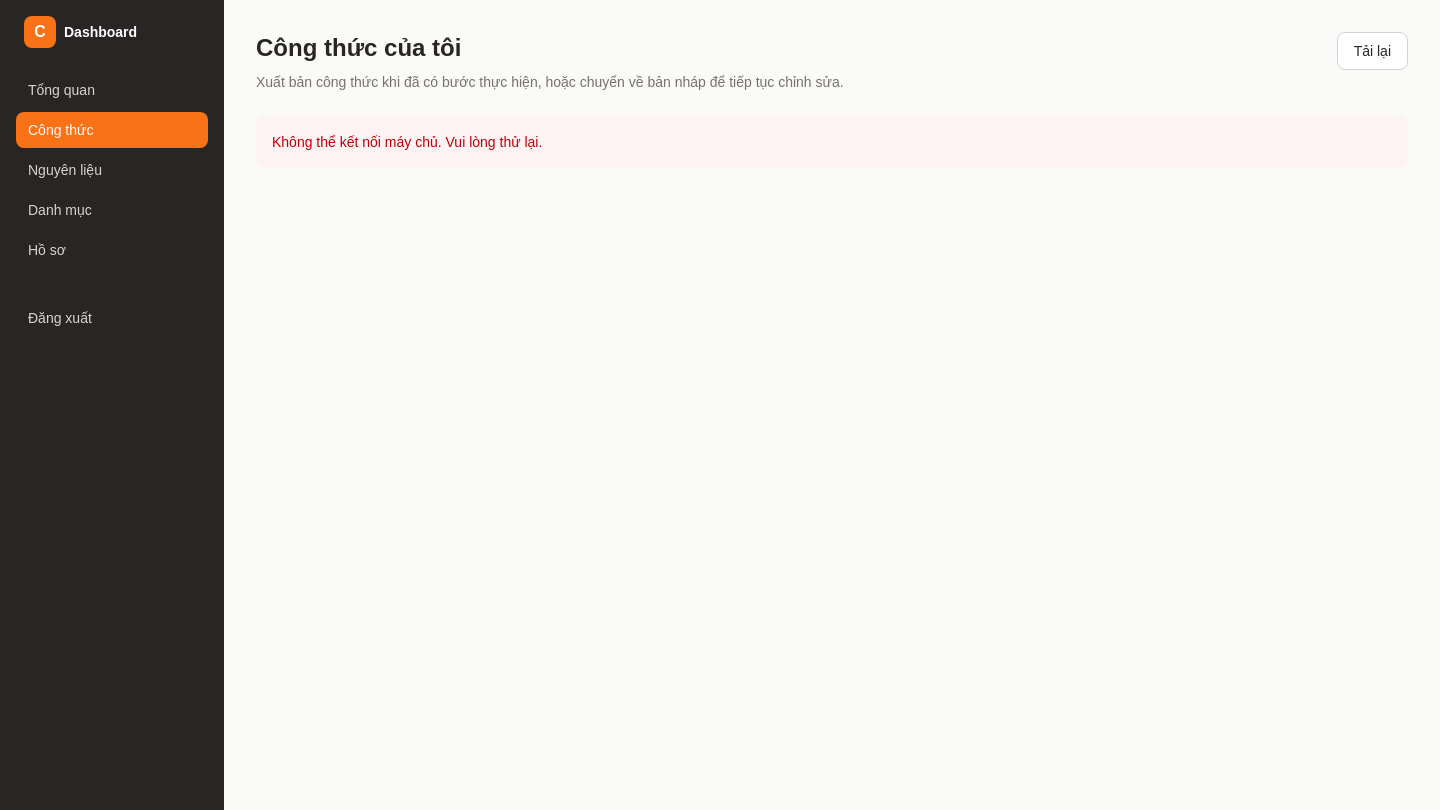
Test case: Recipe management through UI and API client › offers retry after a network failure
The width and height of the screenshot is (1440, 810).
Check: the message shows "Không thể kết nối", box [272, 134, 542, 150]
Click the button "Tải lại". click: (1372, 51)
box: [1337, 32, 1408, 70]
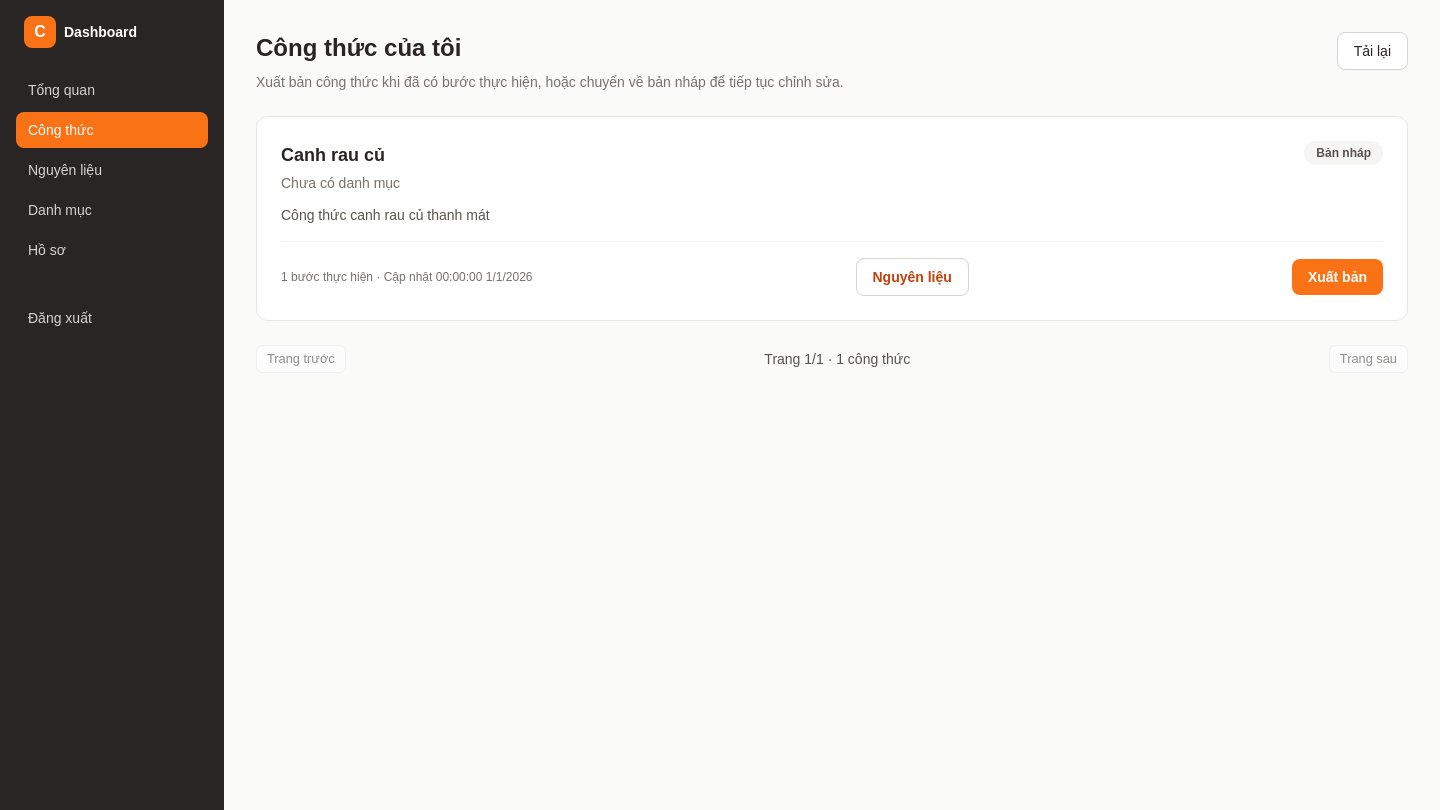
Check: the heading "Canh rau củ" is shown, box [281, 145, 385, 165]
